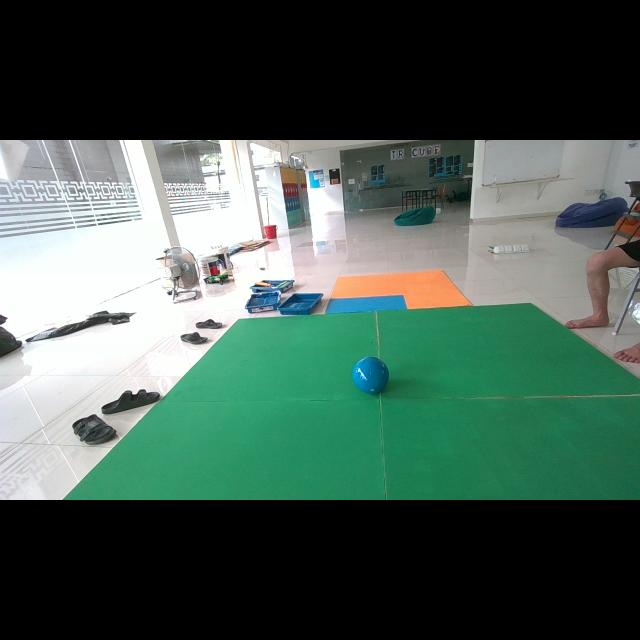B: (352, 356, 389, 394)
